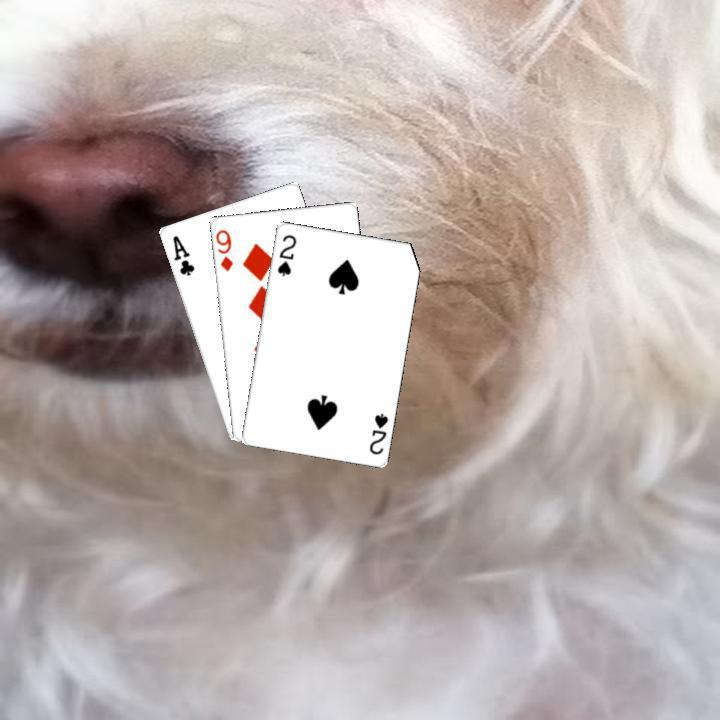2: (273, 230, 298, 278), (365, 408, 390, 456)
9: (212, 225, 235, 273)
A: (168, 231, 196, 277)
